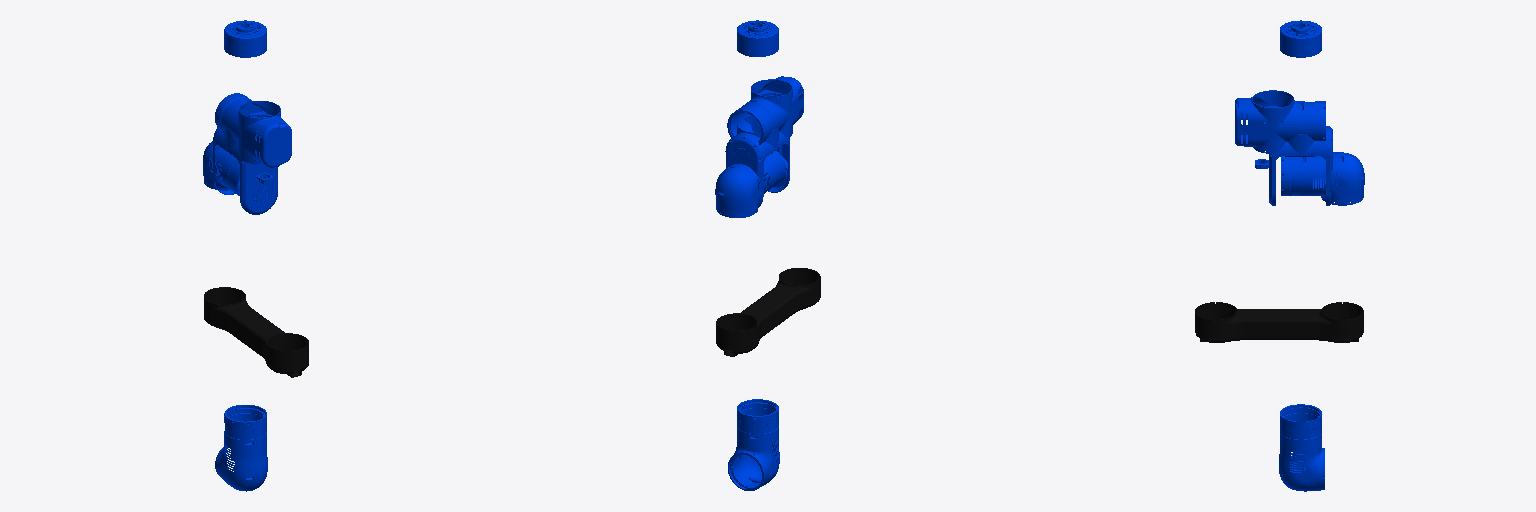
robot.urdf — relax:
<?xml version="1.0" ?>
<!-- =================================================================================== -->
<!-- |    This document was autogenerated by xacro from relax.urdf.xacro               | -->
<!-- |    EDITING THIS FILE BY HAND IS NOT RECOMMENDED                                 | -->
<!-- =================================================================================== -->
<robot name="relax">
  <!-- none, ball, dagana_fixed, dagana -->
  <material name="black">
    <color rgba="0.4 0.4 0.4 1"/>
  </material>
  <material name="darkblue">
    <color rgba="0.0 0.3 0.9 1"/>
  </material>
  <material name="dark">
    <color rgba="0.1 0.1 0.1 1"/>
  </material>
  <material name="dark_grey">
    <color rgba="0.2 0.2 0.2 1"/>
  </material>
  <link name="world"/>
  <joint name="world_joint" type="fixed">
    <parent link="world"/>
    <child link="base_link"/>
    <origin rpy="0 0 0" xyz="0 0 0"/>
  </joint>
  <link name="base_link"/>
  <!-- ARM -->
  <!-- ARM -->
  <!-- ARM -->
  <!-- ARM -->
  <!-- links -->
  <link name="relax_arm1_link1">
    <!-- link 1 -->
    <inertial>
      <origin xyz="-0.0018991406 0.022645162 0.16741297"/>
      <mass value="6.2381702"/>
      <inertia ixx="0.065816037" ixy="-0.00011791629" ixz="-4.0067927e-05" iyy="0.057828314" iyz="-0.011584403" izz="0.01940196"/>
    </inertial>
    <visual>
      <origin rpy="0 0 0" xyz="0 0 0"/>
      <geometry name="relax_link1_visual">
        <mesh filename="package://relax_urdf/meshes/mesh_link1.stl" scale="0.001 0.001 0.001"/>
      </geometry>
      <material name="darkblue"/>
    </visual>
    <collision>
      <origin rpy="0 0 0" xyz="0 0 0"/>
      <geometry name="relax_link1_collision">
        <mesh filename="package://relax_urdf/meshes/mesh_link1.stl" scale="0.001 0.001 0.001"/>
      </geometry>
    </collision>
  </link>
  <link name="relax_arm1_link2">
    <!-- link 2 -->
    <inertial>
      <origin xyz="-3.1494342e-05 -0.20005579 -0.0057041875"/>
      <mass value="2.601371"/>
      <inertia ixx="0.064570453" ixy="-0.00019926537999999998" ixz="-1.6866045999999998e-06" iyy="0.0051512542" iyz="-2.9627309e-06" izz="0.06672465300000001"/>
    </inertial>
    <visual>
      <origin rpy="0 0 0" xyz="0 0 0"/>
      <geometry name="relax_link2_visual">
        <mesh filename="package://relax_urdf/meshes/mesh_link2.stl" scale="0.001 0.001 0.001"/>
      </geometry>
      <material name="dark"/>
    </visual>
    <collision>
      <origin rpy="0 0 0" xyz="0 0 0"/>
      <geometry name="relax_link2_collision">
        <mesh filename="package://relax_urdf/meshes/mesh_link2.stl" scale="0.001 0.001 0.001"/>
      </geometry>
    </collision>
  </link>
  <link name="relax_arm1_link3">
    <!-- link 3 -->
    <inertial>
      <origin xyz="0.0020858498 -0.078452653 -0.10797347"/>
      <mass value="5.9482803"/>
      <inertia ixx="0.062877846" ixy="0.00011665783" ixz="0.00012931181" iyy="0.018390664" iyz="-0.011034081" izz="0.055056825999999996"/>
    </inertial>
    <visual>
      <origin rpy="0 0 0" xyz="0 0 0"/>
      <geometry name="relax_link3_visual">
        <mesh filename="package://relax_urdf/meshes/mesh_link3.stl" scale="0.001 0.001 0.001"/>
      </geometry>
      <material name="darkblue"/>
    </visual>
    <collision>
      <origin rpy="0 0 0" xyz="0 0 0"/>
      <geometry name="relax_link3_collision">
        <mesh filename="package://relax_urdf/meshes/mesh_link3.stl" scale="0.001 0.001 0.001"/>
      </geometry>
    </collision>
  </link>
  <link name="relax_arm1_link4">
    <!-- link 4 -->
    <inertial>
      <origin xyz="0.00096471566 -0.0042586853 0.046169896"/>
      <mass value="1.6710337"/>
      <inertia ixx="0.017329393999999998" ixy="0.00021094011" ixz="-0.00024511391" iyy="0.010036060999999999" iyz="0.00042230531" izz="0.012350325"/>
    </inertial>
    <visual>
      <origin rpy="0 0 0" xyz="0 0 0"/>
      <geometry name="relax_link4_visual">
        <mesh filename="package://relax_urdf/meshes/mesh_link4.stl" scale="0.001 0.001 0.001"/>
      </geometry>
      <material name="darkblue"/>
    </visual>
    <collision>
      <origin rpy="0 0 0" xyz="0 0 0"/>
      <geometry name="relax_link4_collision">
        <mesh filename="package://relax_urdf/meshes/mesh_link4.stl" scale="0.001 0.001 0.001"/>
      </geometry>
    </collision>
  </link>
  <link name="relax_arm1_link5">
    <!-- link 5 -->
    <inertial>
      <origin xyz="-0.0013991722 0.052618238 -0.08425954199999999"/>
      <mass value="6.181102"/>
      <inertia ixx="0.059736008" ixy="-0.00014975682" ixz="-5.2815066e-05" iyy="0.015244194999999999" iyz="0.0011994937999999999" izz="0.055701504"/>
    </inertial>
    <visual>
      <origin rpy="0 0 0" xyz="0 0 0"/>
      <geometry name="relax_link5_visual">
        <mesh filename="package://relax_urdf/meshes/mesh_link5.stl" scale="0.001 0.001 0.001"/>
      </geometry>
      <material name="darkblue"/>
    </visual>
    <collision>
      <origin rpy="0 0 0" xyz="0 0 0"/>
      <geometry name="relax_link5_collision">
        <mesh filename="package://relax_urdf/meshes/mesh_link5.stl" scale="0.001 0.001 0.001"/>
      </geometry>
    </collision>
  </link>
  <link name="relax_arm1_link6">
    <!-- link 6 -->
    <inertial>
      <origin xyz="0.0005687903199999999 0.0 0.0022653642000000002"/>
      <mass value="0.48141935"/>
      <inertia ixx="0.0008220642" ixy="1.0675057e-07" ixz="3.5319177e-07" iyy="0.00083596992" iyz="0.0" izz="0.0012890535"/>
    </inertial>
    <visual>
      <origin rpy="0 0 0" xyz="0 0 0"/>
      <geometry name="relax_link6_visual">
        <mesh filename="package://relax_urdf/meshes/mesh_link6.stl" scale="0.001 0.001 0.001"/>
      </geometry>
      <material name="darkblue"/>
    </visual>
    <collision>
      <origin rpy="0 0 0" xyz="0 0 0"/>
      <geometry name="relax_link6_collision">
        <mesh filename="package://relax_urdf/meshes/mesh_link6.stl" scale="0.001 0.001 0.001"/>
      </geometry>
    </collision>
  </link>
  <link name="relax_arm1_linkEndEffector"/>
  <!-- link End-Effector -->
  <!-- joints -->
  <joint name="relax_arm1_joint0" type="revolute">
    <!-- joint 1 -->
    <parent link="base_link"/>
    <child link="relax_arm1_link1"/>
    <origin rpy="0.0 0.0 0.0" xyz="-0.13448500000000002 0.0 0.3557"/>
    <axis xyz="0 0 1"/>
    <limit effort="147.0" lower="-2.7" upper="2.7" velocity="3.86"/>
    <dynamics damping="0.2" friction="10.0"/>
  </joint>
  <joint name="relax_arm1_joint1" type="revolute">
    <!-- joint 1 -->
    <parent link="relax_arm1_link1"/>
    <child link="relax_arm1_link2"/>
    <origin rpy="-1.5707963 0.0 0.0" xyz="0.0 0.13166 0.24966"/>
    <axis xyz="0 0 1"/>
    <limit effort="147.0" lower="-2.7" upper="2.7" velocity="3.86"/>
    <dynamics damping="0.2" friction="10.0"/>
  </joint>
  <joint name="relax_arm1_joint2" type="revolute">
    <!-- joint 2 -->
    <parent link="relax_arm1_link2"/>
    <child link="relax_arm1_link3"/>
    <origin rpy="0.0 0.0 0.0" xyz="0.0 -0.4 0.0"/>
    <axis xyz="0 0 -1"/>
    <limit effort="147.0" lower="-2.7" upper="2.7" velocity="3.86"/>
    <dynamics damping="0.2" friction="10.0"/>
  </joint>
  <joint name="relax_arm1_joint3" type="revolute">
    <!-- joint 3 -->
    <parent link="relax_arm1_link3"/>
    <child link="relax_arm1_link4"/>
    <origin rpy="1.5707963 0.0 0.0" xyz="0.0 -0.24966 -0.13166"/>
    <axis xyz="0 0 1"/>
    <limit effort="147.0" lower="-2.7" upper="2.7" velocity="3.86"/>
    <dynamics damping="0.2" friction="10.0"/>
  </joint>
  <joint name="relax_arm1_joint4" type="revolute">
    <!-- joint 4 -->
    <parent link="relax_arm1_link4"/>
    <child link="relax_arm1_link5"/>
    <origin rpy="1.5707963 0.0 0.0" xyz="0.0 -0.08816 0.1535"/>
    <axis xyz="0 0 -1"/>
    <limit effort="147.0" lower="-2.0" upper="2.0" velocity="3.86"/>
    <dynamics damping="0.2" friction="10.0"/>
  </joint>
  <joint name="relax_arm1_joint5" type="revolute">
    <!-- joint 5 -->
    <parent link="relax_arm1_link5"/>
    <child link="relax_arm1_link6"/>
    <origin rpy="-1.5707963 0.0 0.0" xyz="0.0 0.22216 -0.08816"/>
    <axis xyz="0 0 1"/>
    <limit effort="147.0" lower="-2.7" upper="2.7" velocity="3.86"/>
    <dynamics damping="0.2" friction="10.0"/>
  </joint>
  <joint name="relax_arm1_joint6" type="fixed">
    <!-- joint 6 fake -->
    <parent link="relax_arm1_link6"/>
    <child link="relax_arm1_linkEndEffector"/>
    <origin rpy="0.0 0.0 0.0" xyz="0.0 0.0 0.028"/>
  </joint>
  <link name="tcp_1"/>
  <joint name="j_tcp_1" type="fixed">
    <parent link="relax_arm1_linkEndEffector"/>
    <child link="tcp_1"/>
    <origin rpy="0 0 0" xyz="0 0 0"/>
  </joint>
</robot>

--- What the picture shows (computed from the rendered views, not written in the file) ---
3 views of the same robot in one strip: view 1: azimuth 30°, elevation 25°; view 2: azimuth 150°, elevation 25°; view 3: azimuth 270°, elevation 25° (orthographic).
Robot: relax — 10 links, 9 joints (6 revolute, 3 fixed); root link world; default pose: every joint at zero.
Visible links, largest first — view 1: relax_arm1_link2, relax_arm1_link5, relax_arm1_link1, relax_arm1_link4, relax_arm1_link6, relax_arm1_link3; view 2: relax_arm1_link2, relax_arm1_link1, relax_arm1_link5, relax_arm1_link3, relax_arm1_link4, relax_arm1_link6; view 3: relax_arm1_link2, relax_arm1_link5, relax_arm1_link1, relax_arm1_link3, relax_arm1_link4, relax_arm1_link6.
Boxes of the visible links, left/top/right/bottom form: relax_arm1_link2: left=204, top=287, right=308, bottom=377; relax_arm1_link5: left=215, top=93, right=291, bottom=167; relax_arm1_link1: left=215, top=405, right=267, bottom=491; relax_arm1_link4: left=213, top=127, right=277, bottom=214; relax_arm1_link6: left=224, top=20, right=266, bottom=57; relax_arm1_link3: left=203, top=141, right=239, bottom=195; relax_arm1_link2: left=716, top=268, right=820, bottom=356; relax_arm1_link1: left=728, top=399, right=779, bottom=490; relax_arm1_link5: left=727, top=76, right=803, bottom=144; relax_arm1_link3: left=715, top=151, right=785, bottom=217; relax_arm1_link4: left=725, top=116, right=789, bottom=207; relax_arm1_link6: left=737, top=20, right=778, bottom=56; relax_arm1_link2: left=1195, top=302, right=1363, bottom=342; relax_arm1_link5: left=1235, top=90, right=1325, bottom=153; relax_arm1_link1: left=1279, top=404, right=1324, bottom=491; relax_arm1_link3: left=1281, top=152, right=1364, bottom=205; relax_arm1_link4: left=1255, top=126, right=1332, bottom=205; relax_arm1_link6: left=1280, top=20, right=1321, bottom=57.
Bounding box of the posed robot: 0.136 × 0.5382 × 1.62 m (x, y, z).
6 mesh visuals loaded from 6 distinct referenced files (6 binary STL).
